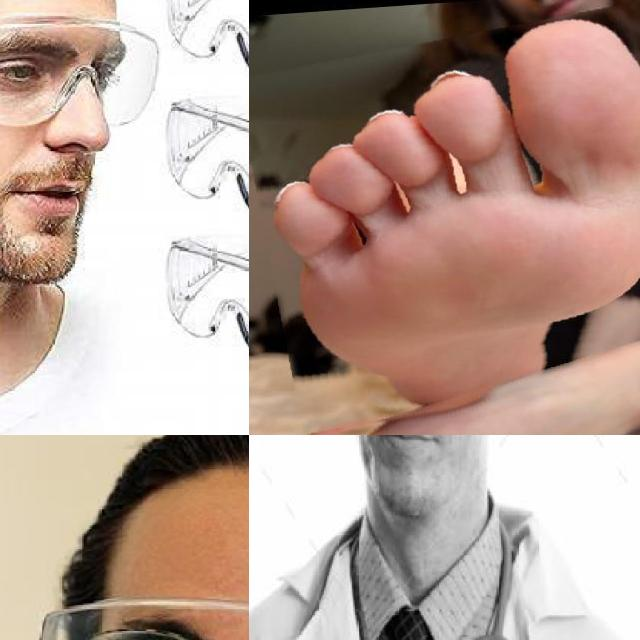Barefoots: (270, 4, 640, 402), (347, 334, 640, 435)
face_nomask: (0, 23, 121, 240), (345, 435, 488, 477)
glasses: (0, 10, 158, 129)
head_nohelmet: (85, 435, 249, 542)
person: (249, 435, 640, 640)
